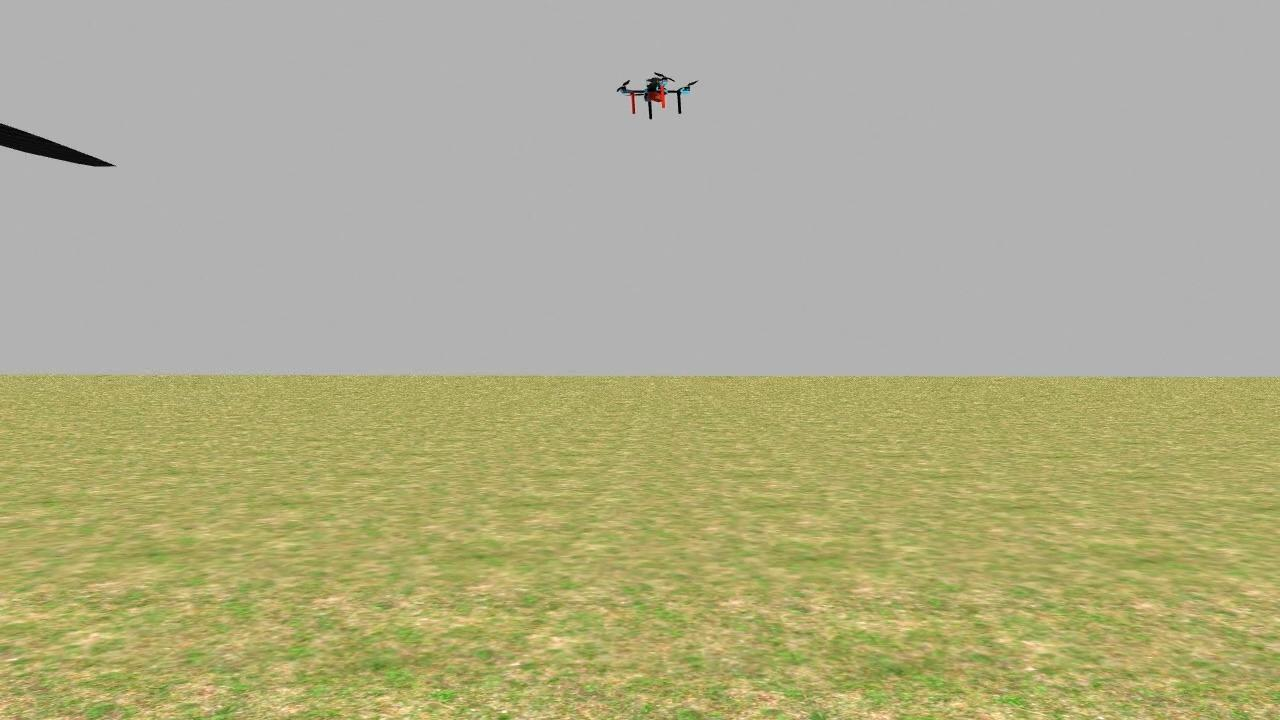UAV: (617, 71, 723, 140)
